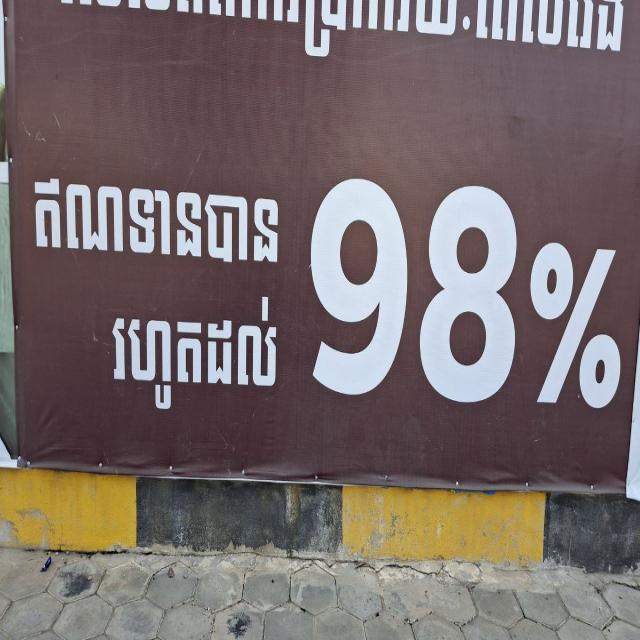Yolov11kh: (23, 155, 290, 287), (98, 293, 290, 419)
